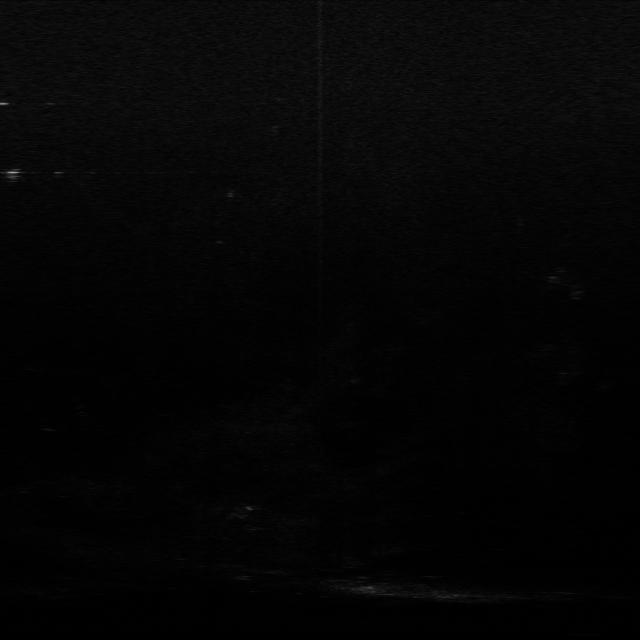rov: (0, 166, 26, 185)
